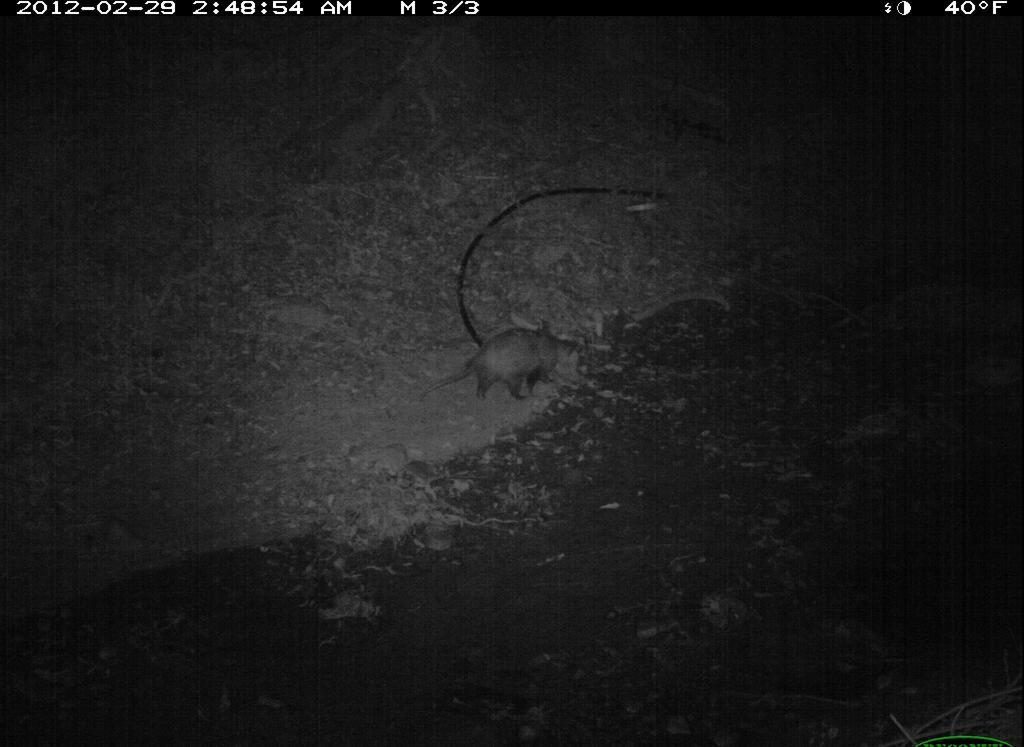opossum: (409, 327, 577, 411)
